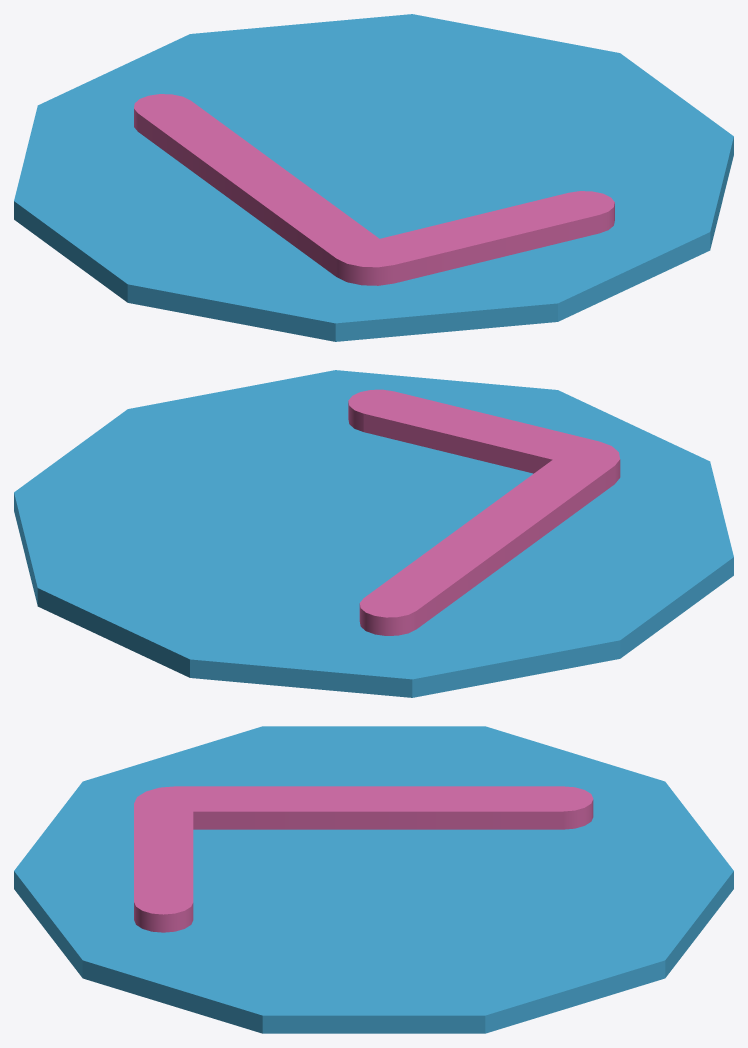
The model's file is pad1.obj.
3 views of the same model, one above another, from view 1: azimuth 30°, elevation 25°; view 2: azimuth 150°, elevation 25°; view 3: azimuth 270°, elevation 25° (orthographic). The views are drawn at different scales.
Parts seen in each view (by area): view 1: Mesh2 Model, Mesh1 L_1_1 Model; view 2: Mesh2 Model, Mesh1 L_1_1 Model; view 3: Mesh2 Model, Mesh1 L_1_1 Model.
Part boxes in pixels (left/top/right/bottom): Mesh2 Model: left=14, top=14, right=733, bottom=341; Mesh1 L_1_1 Model: left=134, top=94, right=614, bottom=285; Mesh2 Model: left=14, top=370, right=733, bottom=697; Mesh1 L_1_1 Model: left=348, top=389, right=620, bottom=635; Mesh2 Model: left=14, top=726, right=733, bottom=1033; Mesh1 L_1_1 Model: left=134, top=786, right=593, bottom=932.
Size of the model in its own units: 0.2739 by 0.016 by 0.288.
2 materials, 2 textured.
